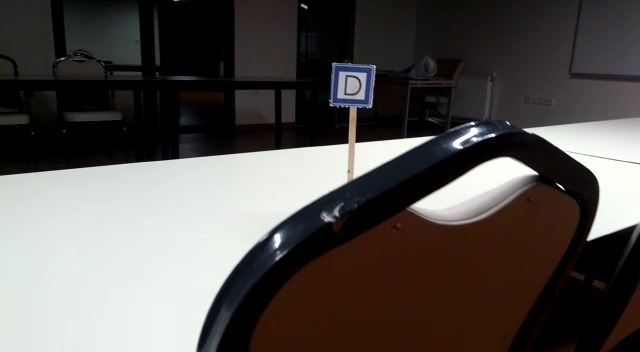durak: (330, 64, 378, 105)
